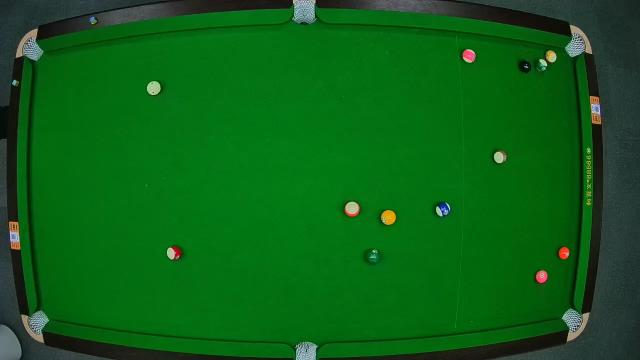bag1: (22, 38, 44, 60)
bag2: (291, 0, 317, 26)
bag3: (566, 29, 588, 57)
bag4: (29, 310, 49, 334)
bag5: (294, 340, 318, 360)
bag6: (563, 308, 585, 332)
ball0: (146, 81, 162, 97)
ball1: (380, 210, 396, 226)
ball10: (435, 202, 451, 218)
ball11: (167, 247, 181, 261)
ball12: (462, 48, 474, 64)
ball13: (344, 200, 361, 218)
ball14: (536, 59, 548, 73)
ball15: (494, 150, 506, 164)
ball4: (535, 269, 549, 283)
ball5: (558, 246, 570, 262)
ball6: (364, 250, 380, 262)
ball8: (516, 60, 532, 74)
ball9: (544, 50, 558, 64)
